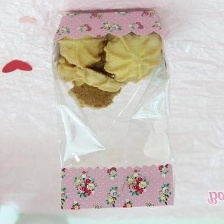snack: (42, 2, 182, 218)
